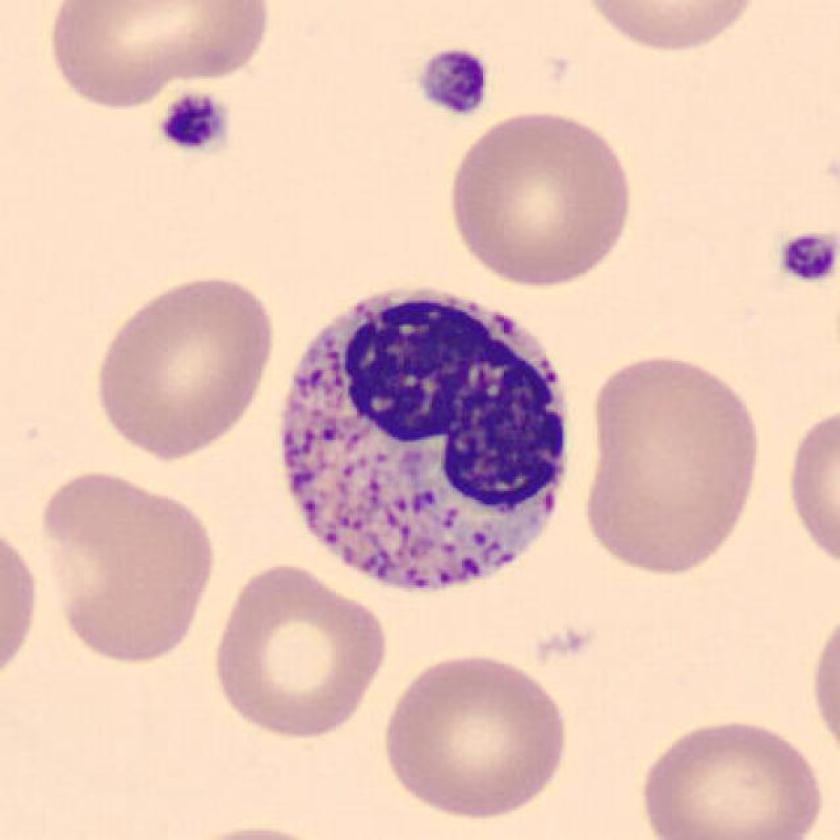neutrophil: (281, 291, 566, 589)
